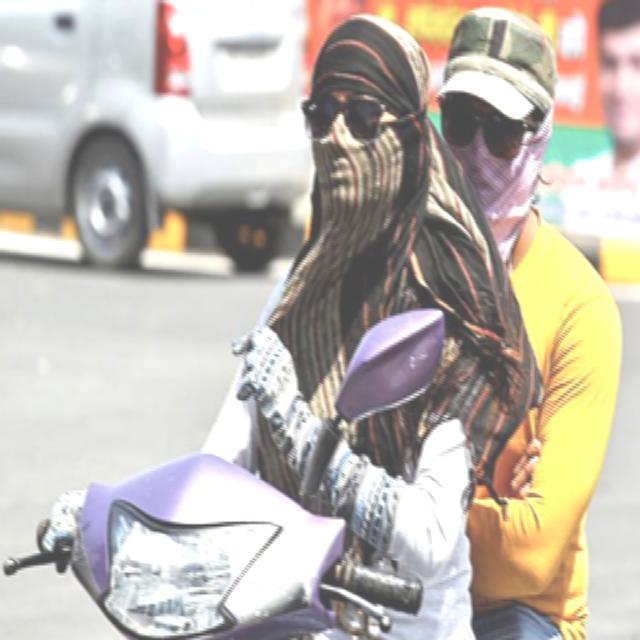Without Helmet: (300, 10, 434, 240)
